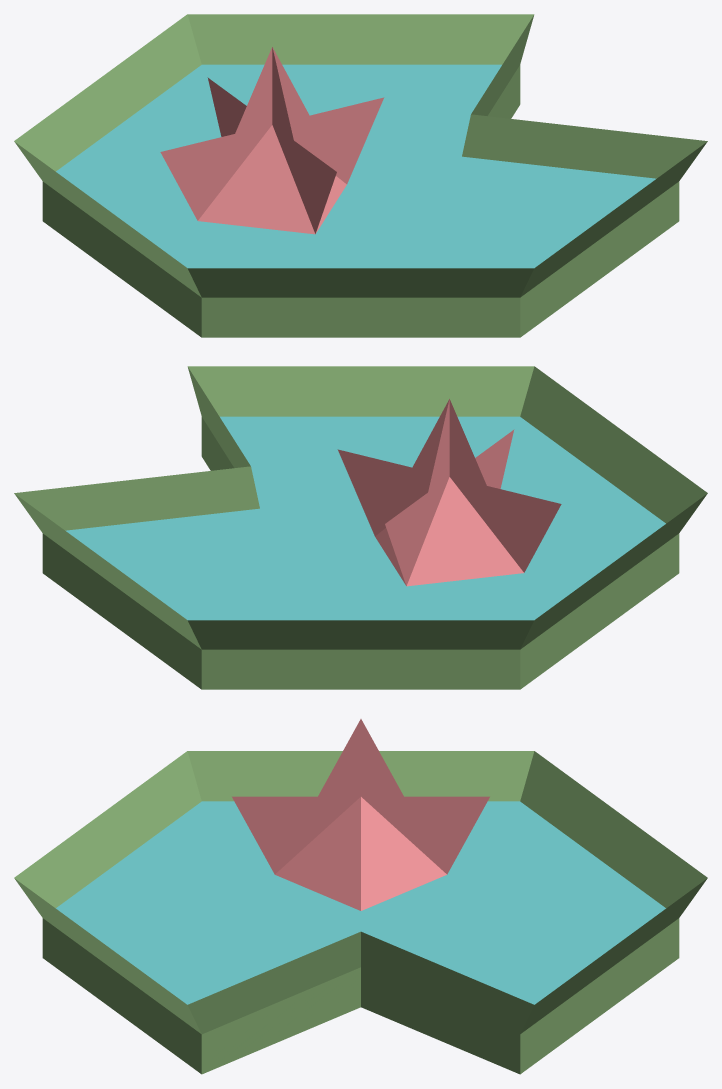
File: lily_large.glb
3 renders of one model, top to bottom at view 1: azimuth 30°, elevation 25°; view 2: azimuth 150°, elevation 25°; view 3: azimuth 270°, elevation 25°, orthographic.
Visible parts, largest first — view 1: lily_large; view 2: lily_large; view 3: lily_large.
Part boxes in pixels (box(x1,y1,x2,y2)): lily_large: box(14, 14, 707, 337); lily_large: box(14, 366, 707, 689); lily_large: box(14, 719, 707, 1074).
Bounding box in the file's own units: 0.2719 × 0.098 × 0.3139.
